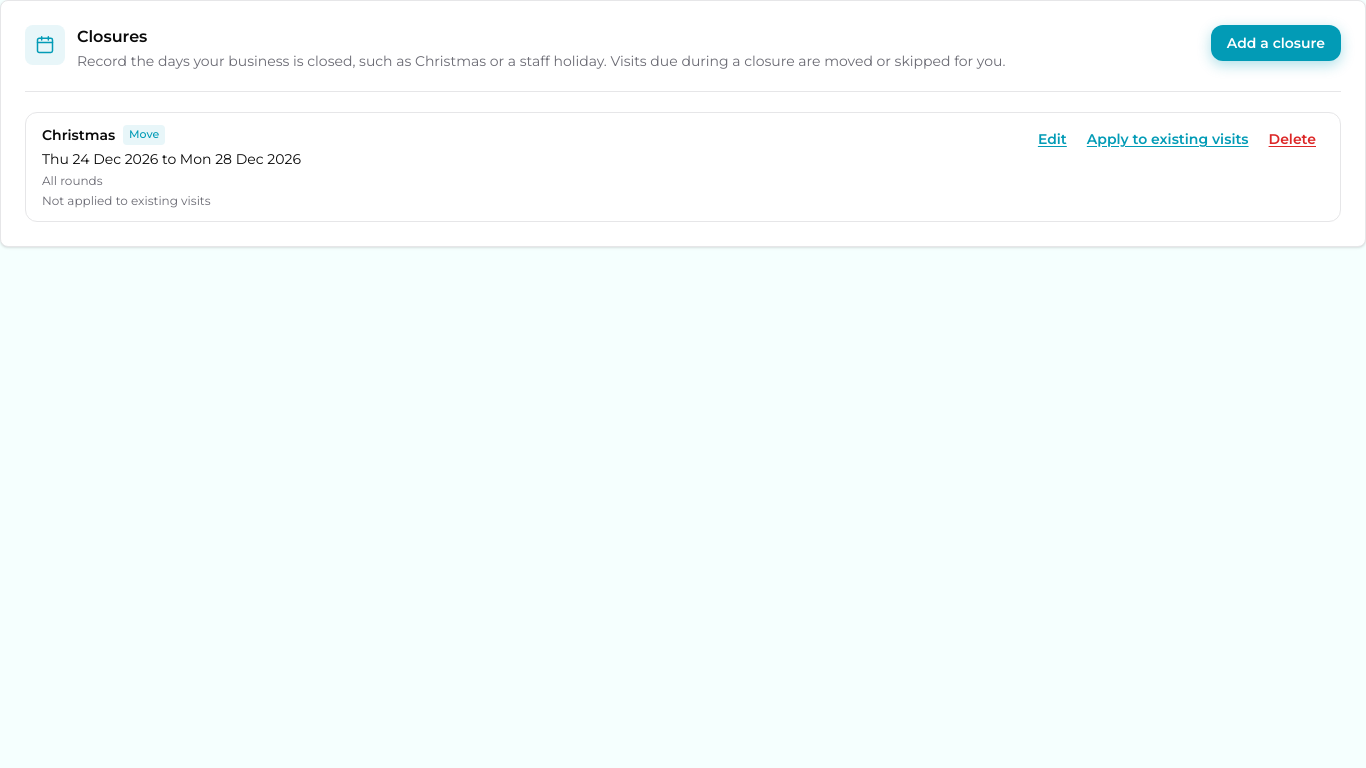
it: ClosuresPanel delete › shows progress while deleting
Click the button with aria-label "Delete Christmas". click: [1292, 139]
box: [1261, 125, 1324, 153]
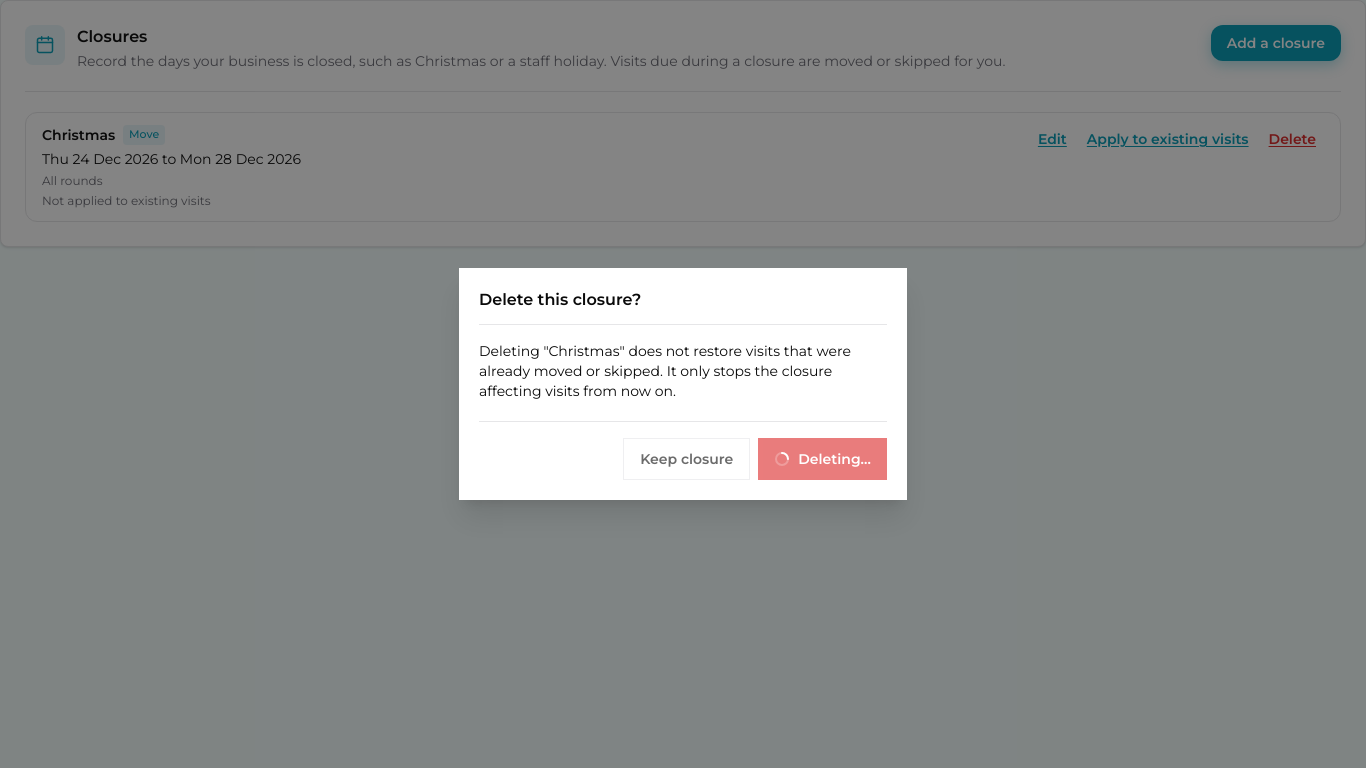
Expected: the button "Deleting…" is disabled, [758, 438, 887, 480]
